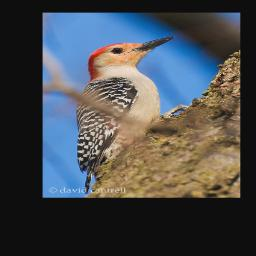Woodpecker: (76, 35, 176, 194)
